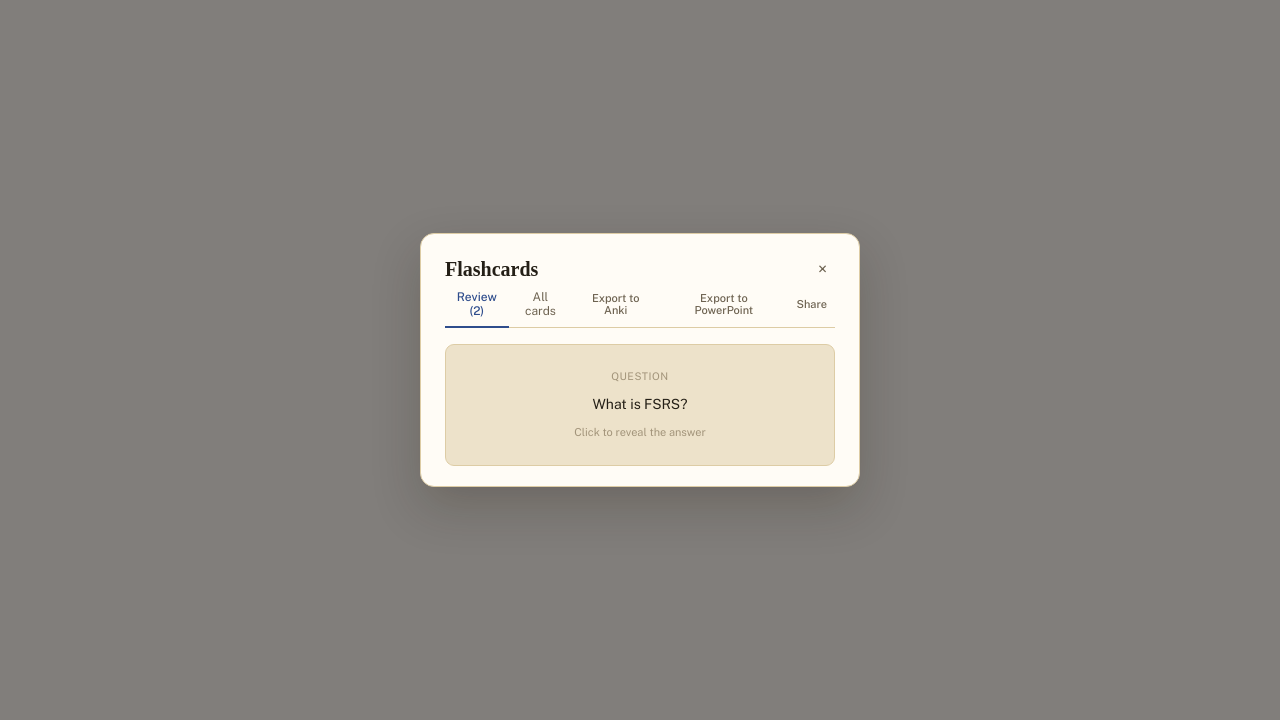
Test: FlashcardsPanel › rating a card submits the review and advances to the next one
What coordinates should you click on to do the following:
click the text "What is FSRS?"
I would click on:
 (640, 405)
Its box is x1=592 y1=393 x2=688 y2=416.
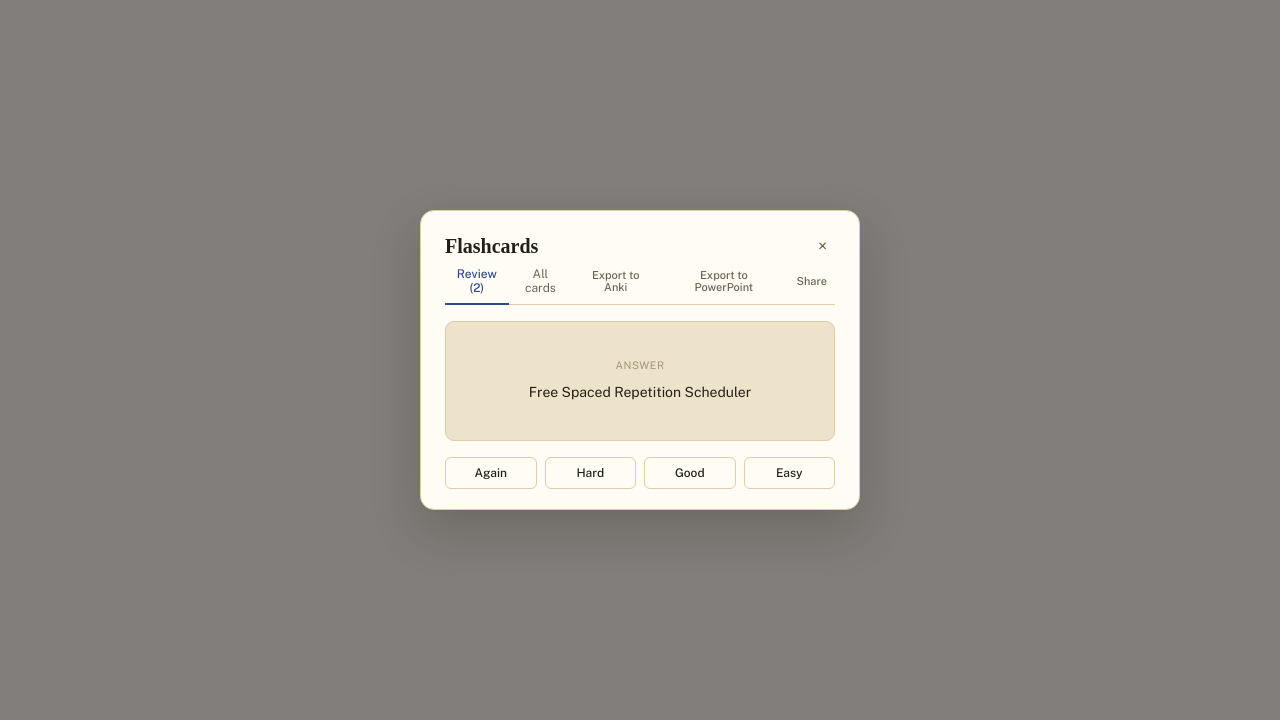
What coordinates should you click on to do the following:
click the button "Good"
I would click on:
 (690, 473)
Its box is x1=644 y1=457 x2=736 y2=489.
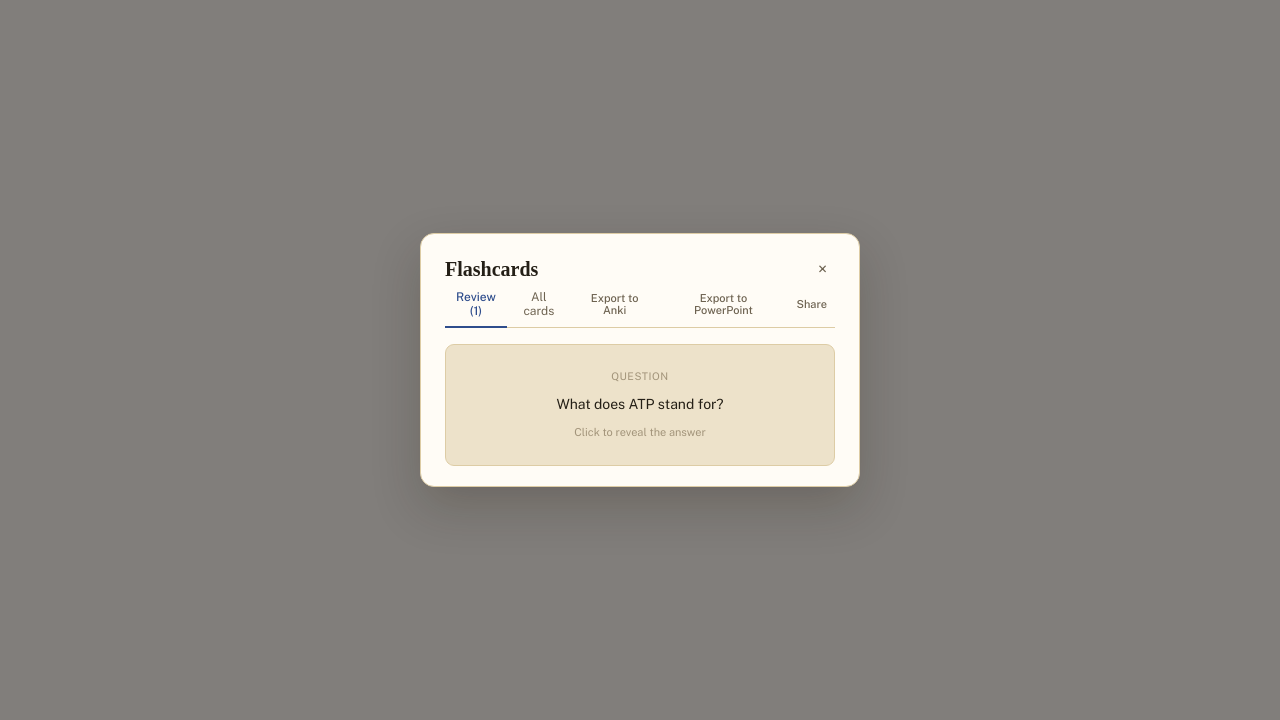
Expected: the text "What does ATP stand for?" is shown, x1=556 y1=393 x2=724 y2=416
